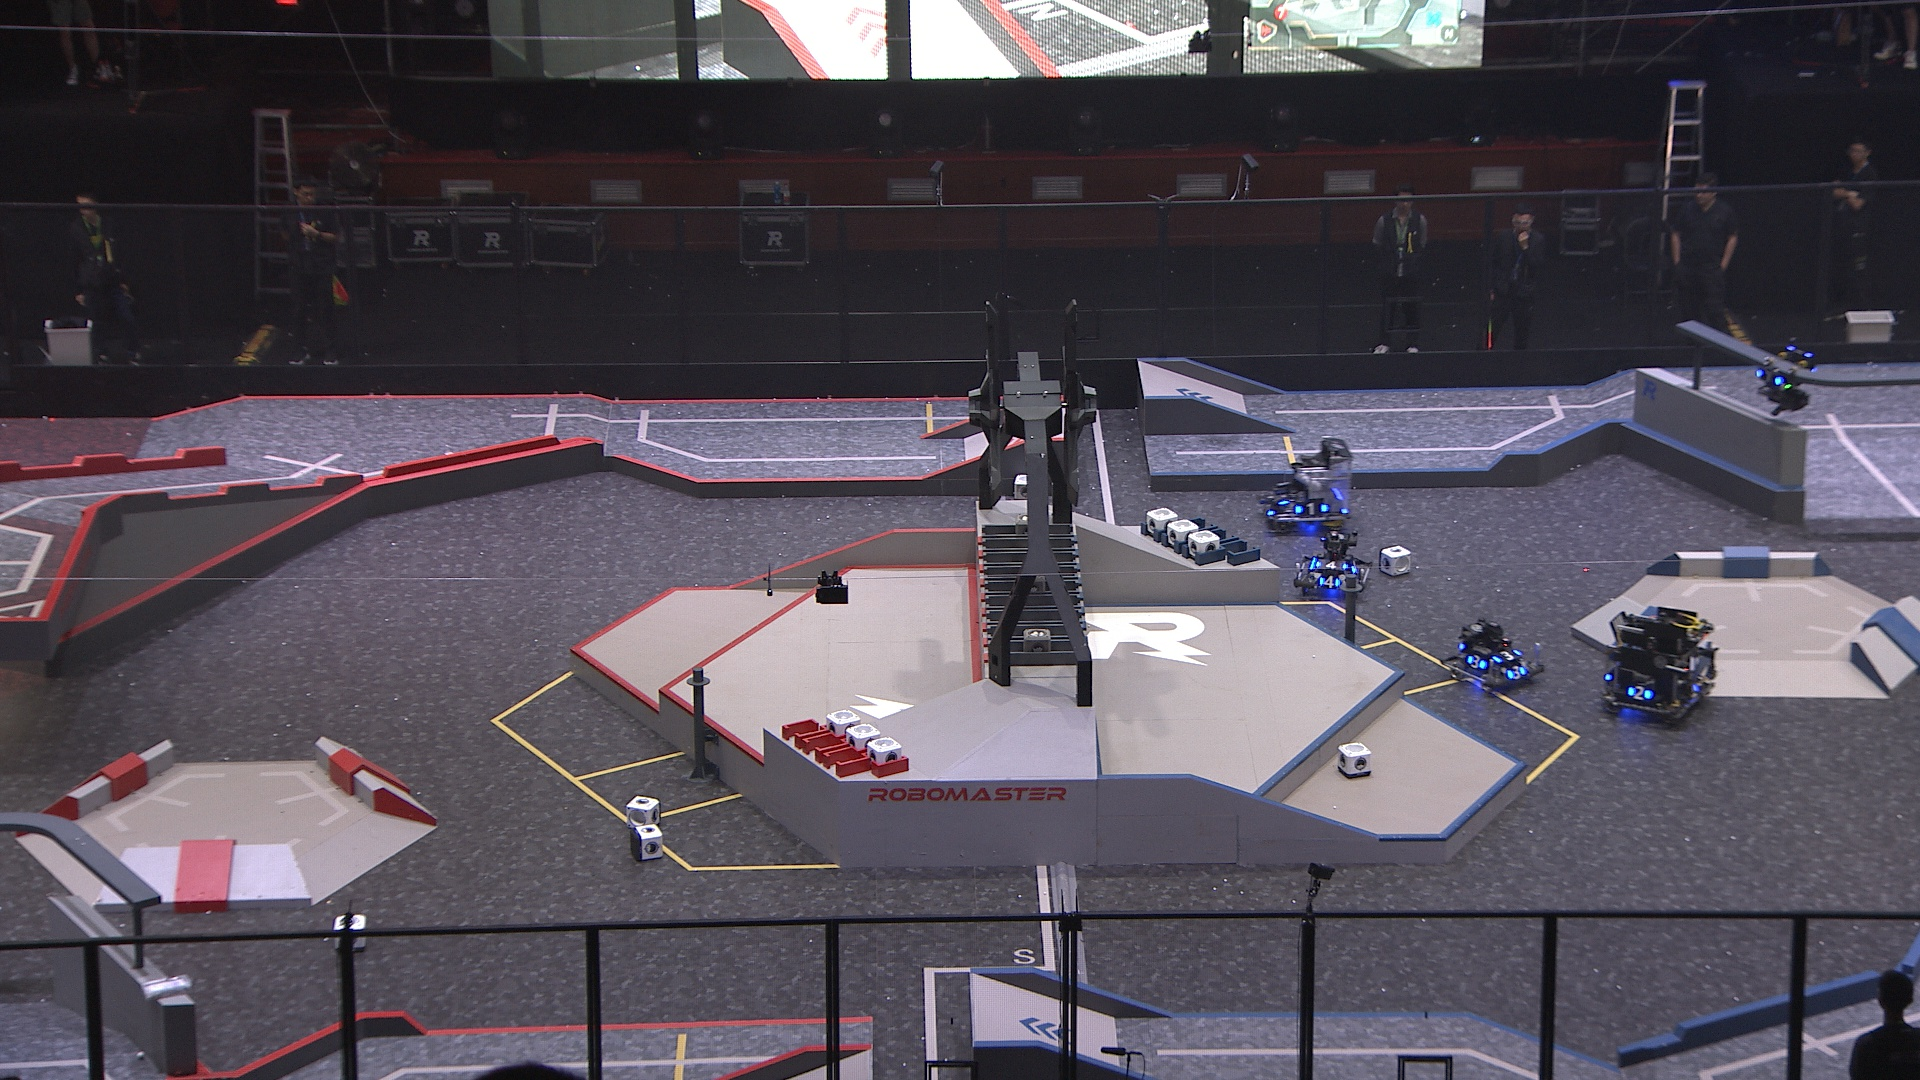armor: (1754, 365, 1784, 389), (1291, 500, 1329, 517), (1493, 645, 1522, 666), (1315, 556, 1349, 572), (1626, 684, 1654, 703), (1465, 650, 1489, 671), (1505, 662, 1527, 683), (1319, 571, 1342, 589), (1263, 495, 1280, 518), (1689, 675, 1708, 695), (1275, 488, 1291, 509)
car: (1598, 604, 1721, 723), (1257, 433, 1356, 533), (1439, 616, 1549, 695), (1294, 527, 1375, 597)
watcher: (1750, 334, 1818, 418)
